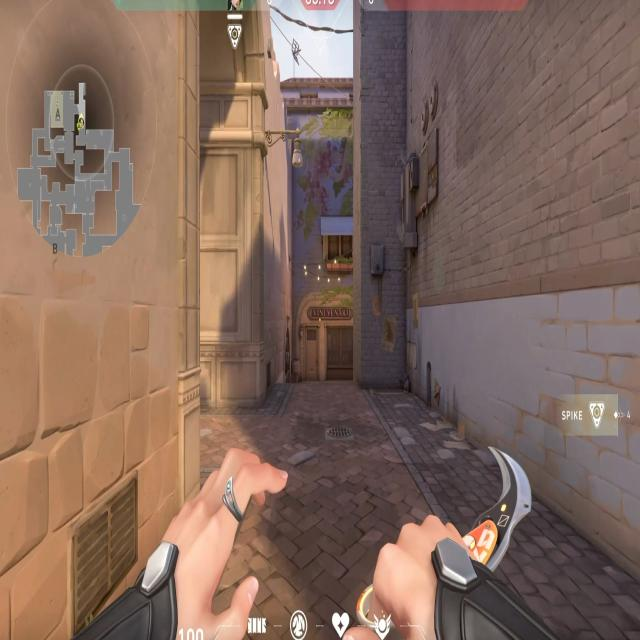Wine: (271, 277, 379, 424)
